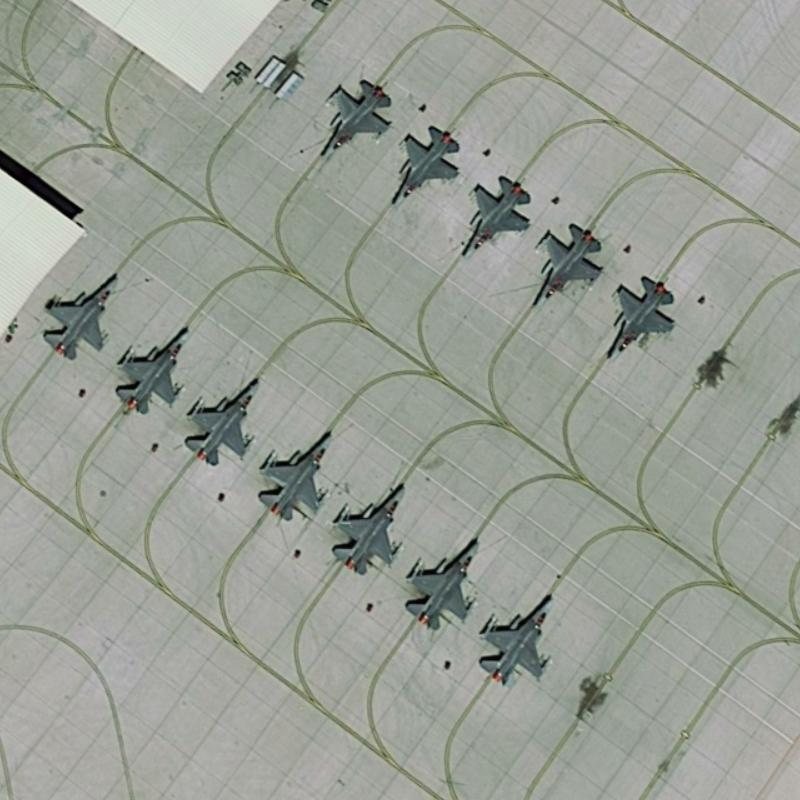A5: (250, 425, 337, 532), (398, 533, 486, 635), (325, 477, 413, 576), (522, 213, 608, 314), (178, 366, 262, 467), (311, 69, 397, 163), (36, 264, 120, 360), (476, 594, 559, 688), (113, 327, 198, 417), (456, 169, 535, 264), (603, 271, 679, 364), (391, 121, 462, 211)
